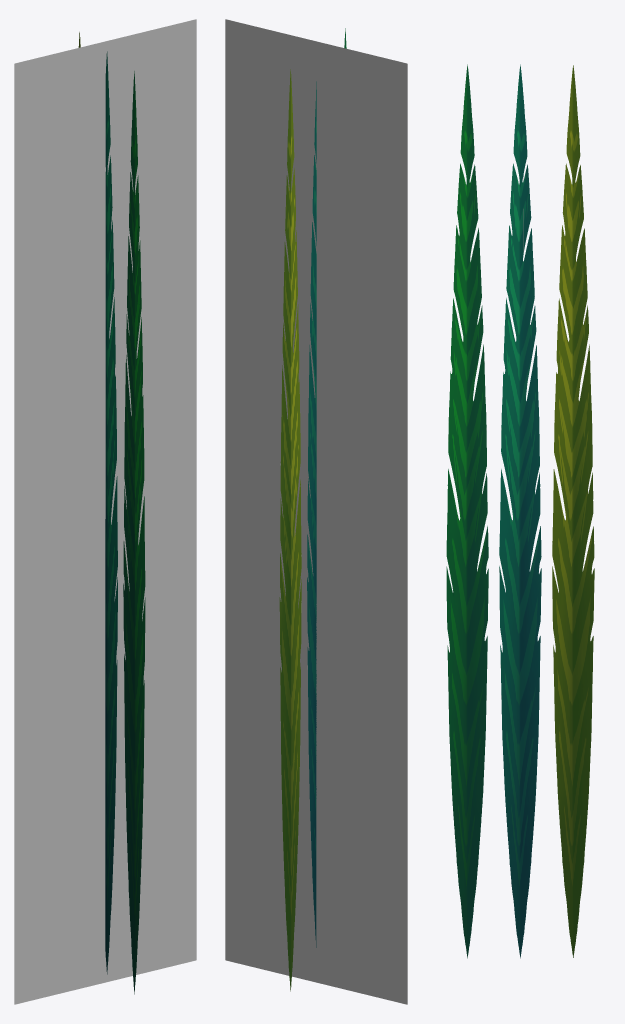
File: M_végétation_3.FBX
3 views of the same model, side by side, from view 1: azimuth 30°, elevation 25°; view 2: azimuth 150°, elevation 25°; view 3: azimuth 270°, elevation 25° (orthographic). The views are drawn at different scales.
Parts seen in each view (by area): view 1: Plane198, Plane197; view 2: Plane198, Plane197; view 3: Plane197.
Boxes of the visible parts, x1,y1,x2,y2 form: Plane198: [14, 19, 196, 1004]; Plane197: [78, 32, 145, 994]; Plane198: [225, 19, 407, 1004]; Plane197: [279, 28, 346, 991]; Plane197: [446, 64, 594, 958].
Size of the model in its own units: 166 by 818 by 142.
